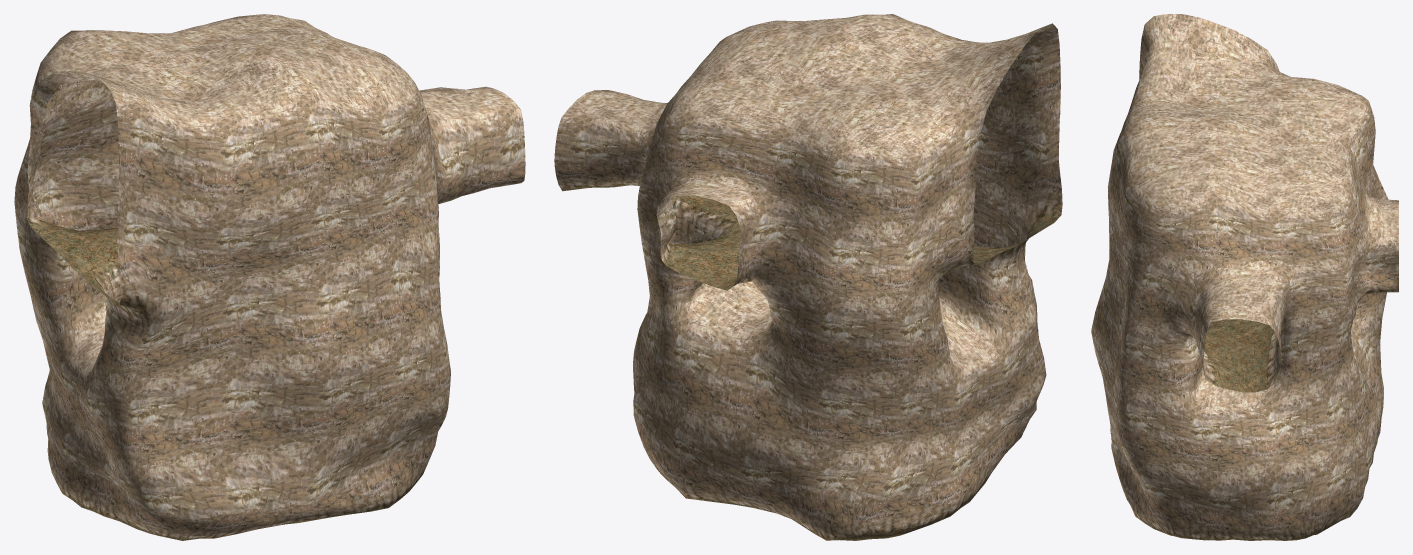
File: thm_all_cave_s01_mirror_r6_mesh_r6.fbx
3 renders of one model, left to right at view 1: azimuth 30°, elevation 25°; view 2: azimuth 150°, elevation 25°; view 3: azimuth 270°, elevation 25°, orthographic. The views are drawn at different scales.
Parts seen in each view (by area): view 1: mesh_node; view 2: mesh_node; view 3: mesh_node.
Boxes of the visible parts, left/top/right/bottom form: mesh_node: left=14, top=14, right=525, bottom=540; mesh_node: left=554, top=14, right=1062, bottom=540; mesh_node: left=1091, top=14, right=1398, bottom=540.
Size of the model in its own units: 55 by 58.14 by 39.83.
